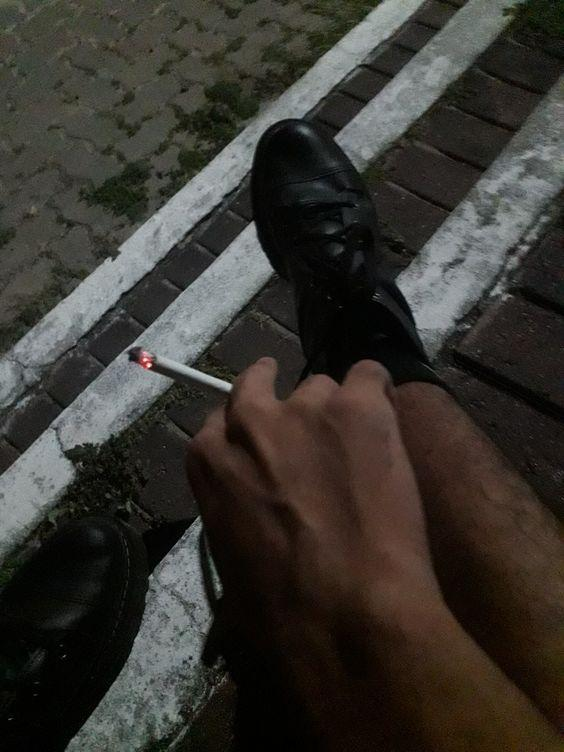cigarette: (124, 346, 234, 399)
